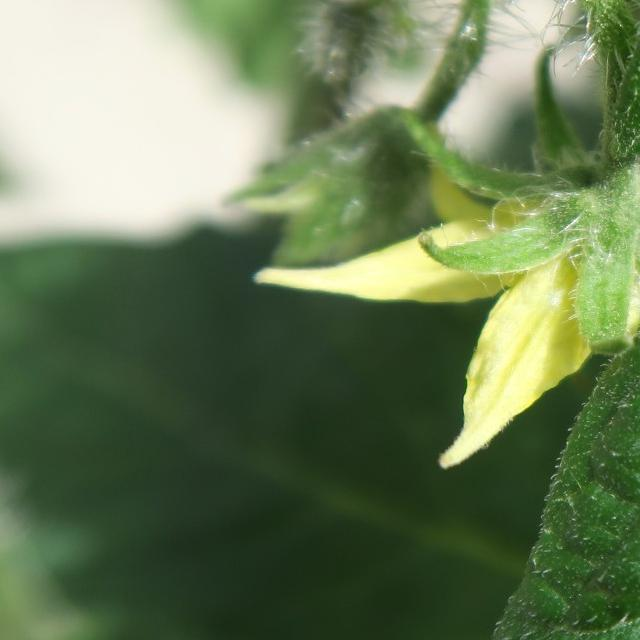Tomato leaf bacterial spot: (393, 0, 640, 640)
